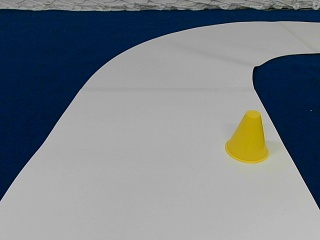cone: (225, 111, 269, 162)
